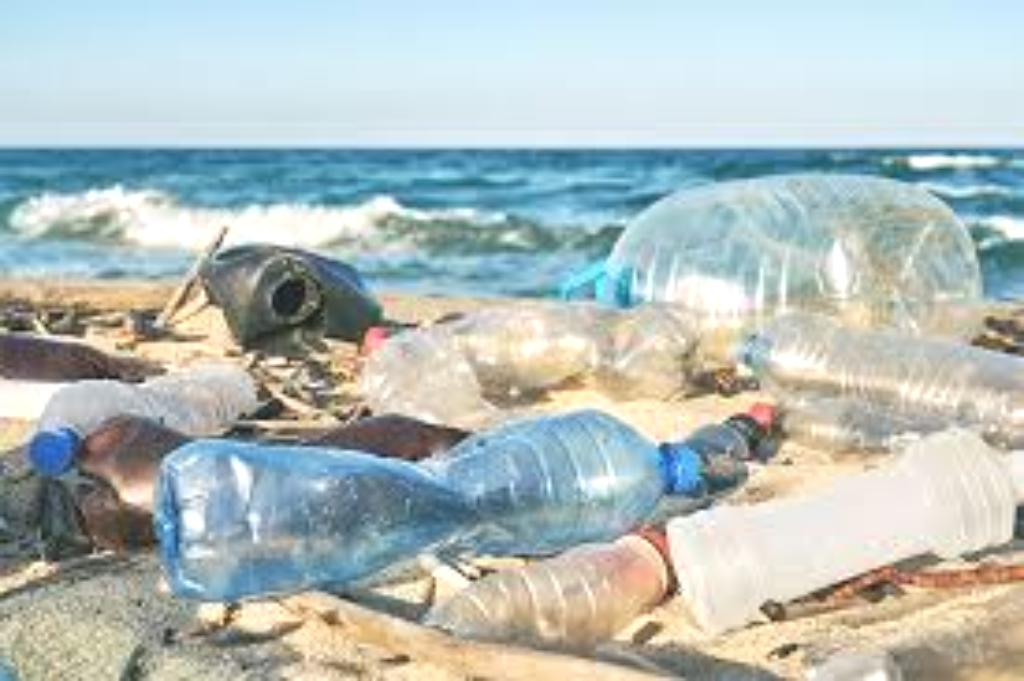garbage: (158, 398, 758, 607), (577, 168, 994, 350), (737, 311, 1024, 456), (434, 538, 694, 657), (24, 361, 259, 462), (194, 236, 387, 348)
